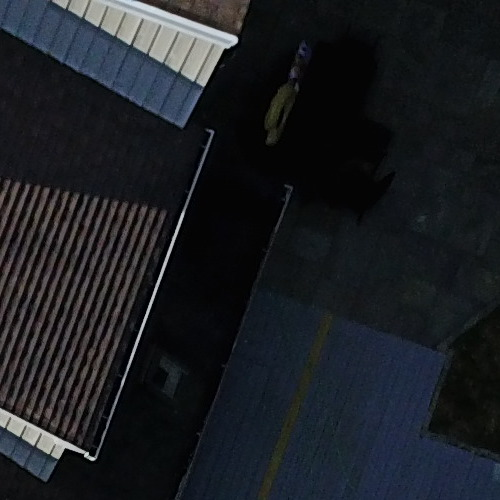no larvae: (258, 85, 305, 152), (284, 27, 328, 89)
toy: (257, 85, 304, 149), (283, 27, 330, 89)
